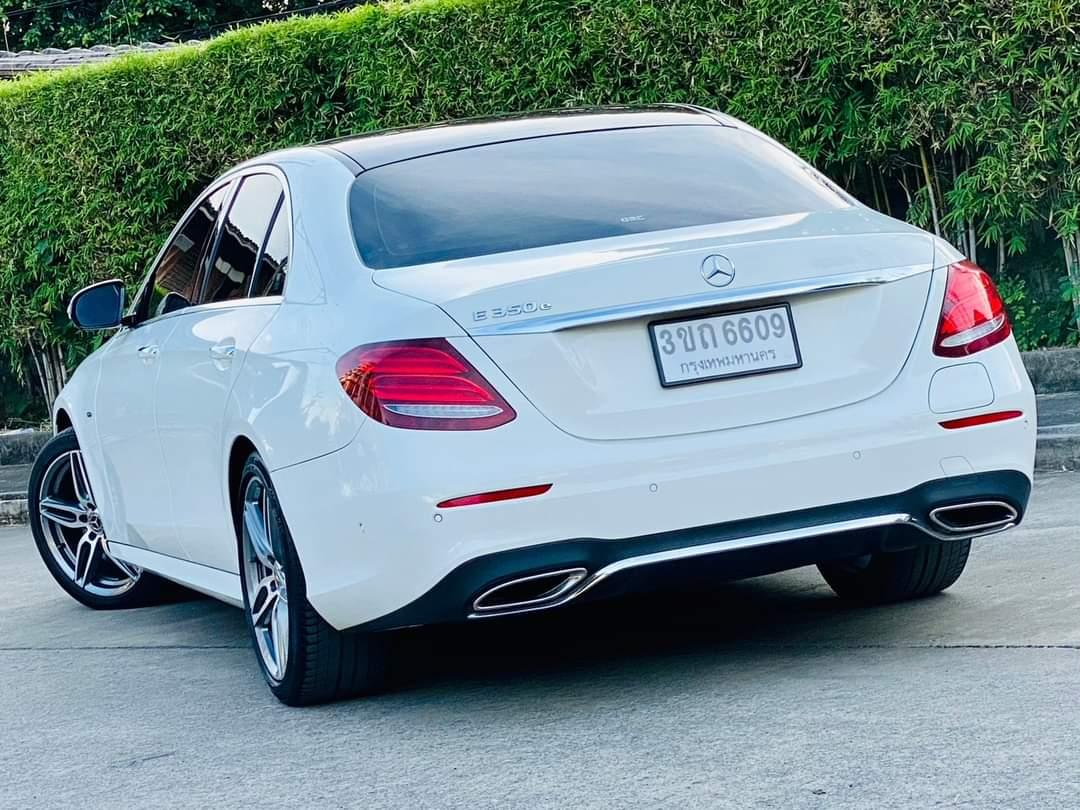license-plate: (646, 301, 805, 388)
